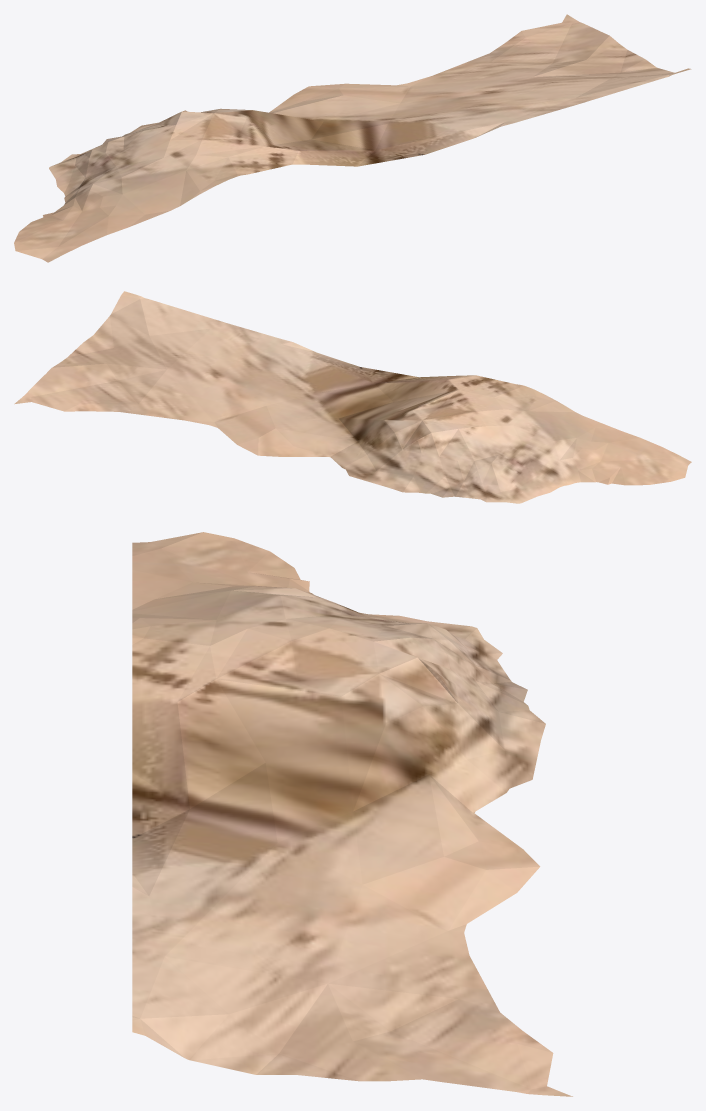
3 renders of one model, top to bottom at view 1: azimuth 30°, elevation 25°; view 2: azimuth 150°, elevation 25°; view 3: azimuth 270°, elevation 25°, orthographic. The views are drawn at different scales.
Bounding box in the file's own units: 1.3 × 0.0785 × 0.4292.
Materials: 1 (1 with a texture image).
